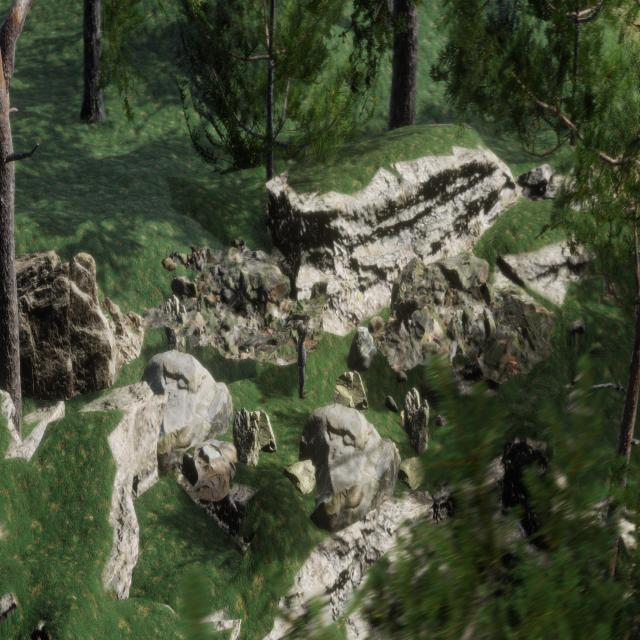Human: (288, 309, 314, 400)
